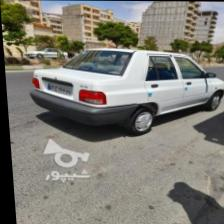plate: (44, 83, 69, 96)
